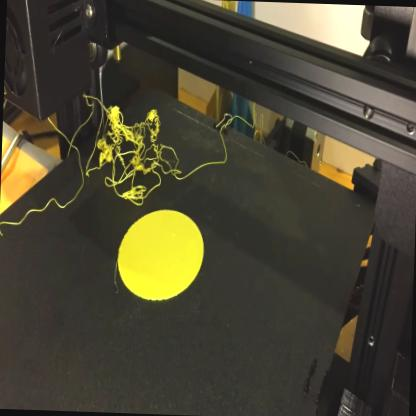fail: (67, 120, 229, 212)
